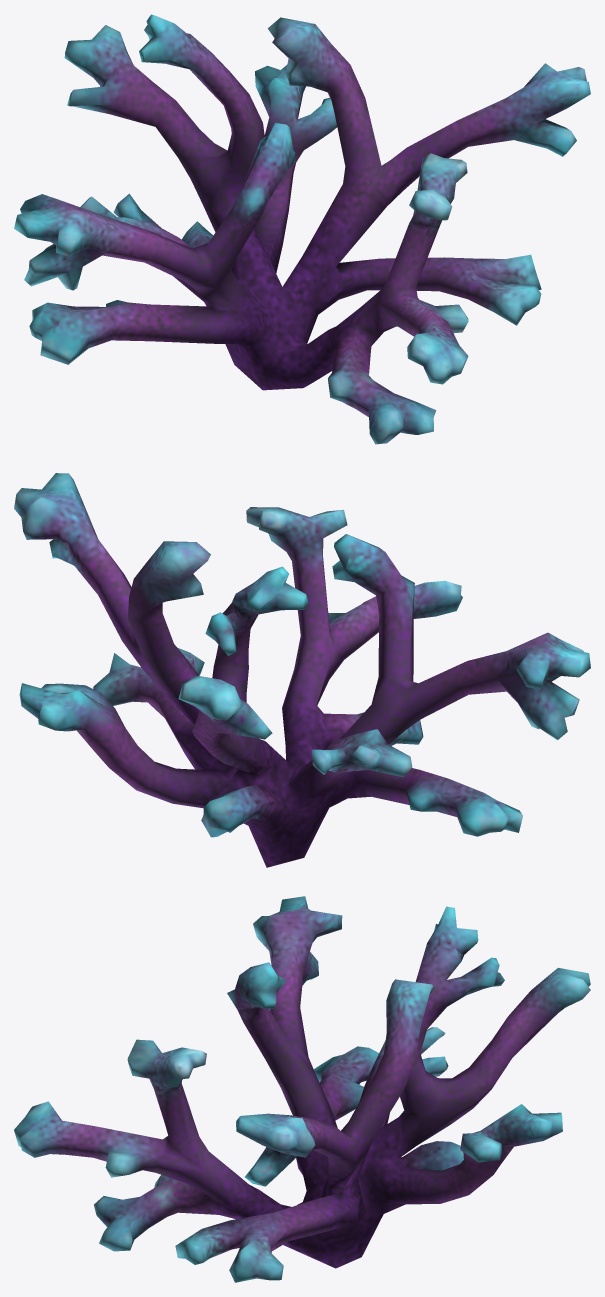
File: Coral05.fbx
3 views of the same model, one above another, from view 1: azimuth 30°, elevation 25°; view 2: azimuth 150°, elevation 25°; view 3: azimuth 270°, elevation 25° (orthographic). The views are drawn at different scales.
Parts seen in each view (by area): view 1: Coral_13_1; view 2: Coral_13_1; view 3: Coral_13_1.
Part boxes in pixels (x1=…): Coral_13_1: x1=14, y1=14, x2=590, y2=444; Coral_13_1: x1=14, y1=473, x2=590, y2=867; Coral_13_1: x1=14, y1=896, x2=590, y2=1282.
Size of the model in its own units: 190 by 113 by 179.
